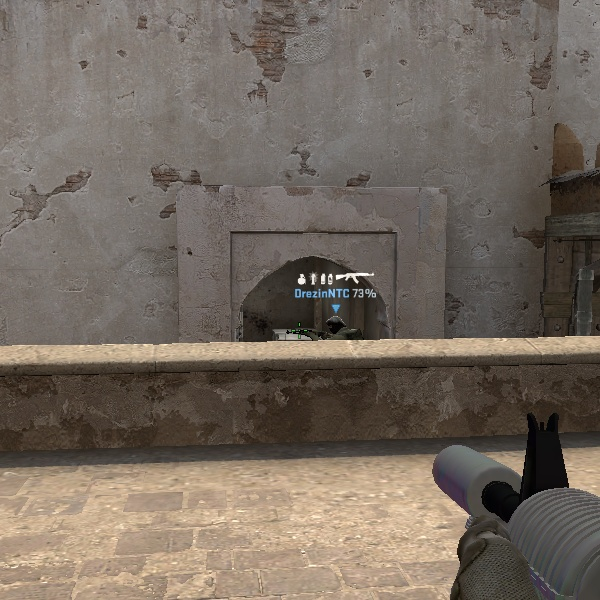ct_body: (312, 311, 357, 342)
